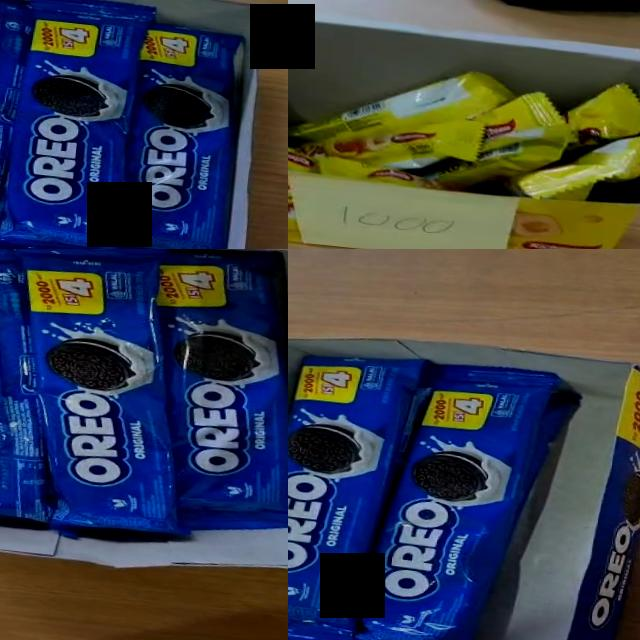Ahh: (288, 50, 518, 169), (408, 78, 578, 202), (294, 99, 491, 180), (501, 115, 640, 211), (560, 76, 640, 160), (312, 153, 444, 189), (288, 126, 324, 173)
Oreo: (347, 351, 567, 640), (0, 249, 215, 543), (128, 249, 288, 541), (288, 339, 437, 640), (0, 0, 157, 249), (104, 19, 249, 249), (0, 249, 79, 539)
